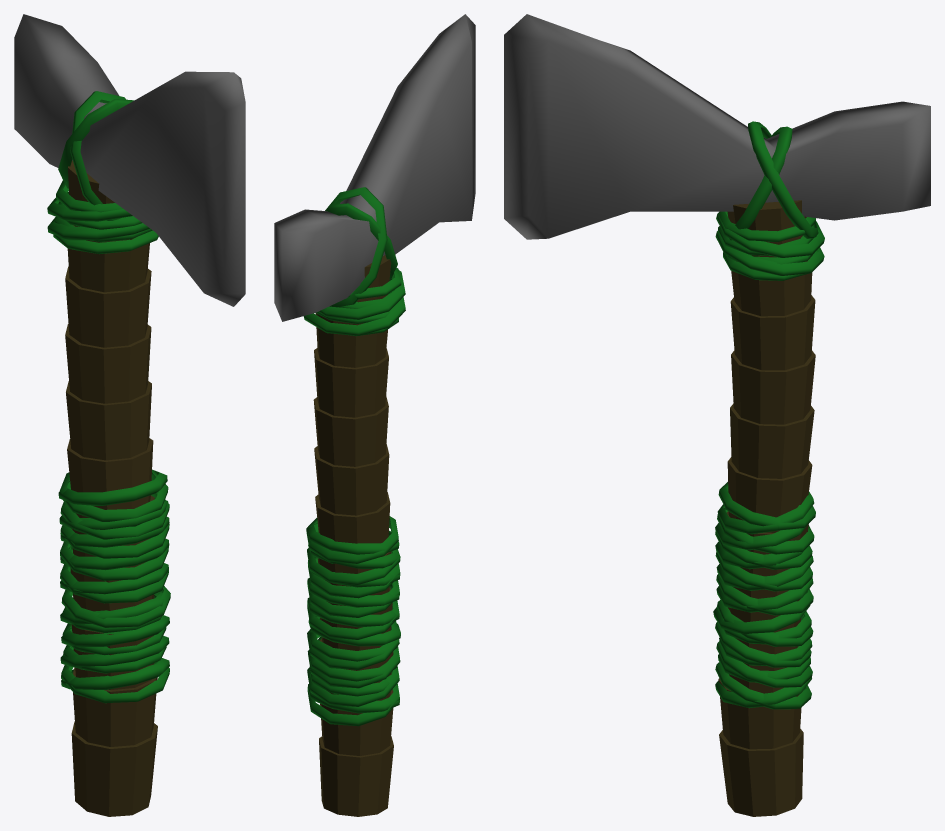
The model's file is Axe.fbx.
3 renders of one model, left to right at view 1: azimuth 30°, elevation 25°; view 2: azimuth 150°, elevation 25°; view 3: azimuth 270°, elevation 25°, orthographic. The views are drawn at different scales.
Visible parts, largest first — view 1: Plane, Cylinder, Cylinder.016, Cylinder.001, Cylinder.002, Cylinder.007, Cylinder.006, Cylinder.008, Cylinder.003, Cylinder.004; view 2: Plane, Cylinder, Cylinder.016, Cylinder.002, Cylinder.007, Cylinder.008, Cylinder.001, Cylinder.003; view 3: Plane, Cylinder, Cylinder.016, Cylinder.002, Cylinder.007, Cylinder.001, Cylinder.008, Cylinder.003.
Boxes of the visible parts, x1=… form: Plane: x1=14, y1=14, x2=245, y2=306; Cylinder: x1=65, y1=160, x2=157, y2=816; Cylinder.016: x1=58, y1=469, x2=170, y2=703; Cylinder.001: x1=70, y1=91, x2=125, y2=220; Cylinder.002: x1=58, y1=99, x2=134, y2=191; Cylinder.007: x1=47, y1=217, x2=149, y2=240; Cylinder.006: x1=53, y1=230, x2=158, y2=254; Cylinder.008: x1=47, y1=191, x2=132, y2=221; Cylinder.003: x1=56, y1=180, x2=122, y2=212; Cylinder.004: x1=58, y1=192, x2=142, y2=229; Plane: x1=274, y1=14, x2=475, y2=321; Cylinder: x1=313, y1=255, x2=393, y2=816; Cylinder.016: x1=306, y1=516, x2=400, y2=726; Cylinder.002: x1=325, y1=187, x2=387, y2=307; Cylinder.007: x1=303, y1=292, x2=405, y2=335; Cylinder.008: x1=318, y1=270, x2=405, y2=319; Cylinder.001: x1=326, y1=203, x2=397, y2=280; Cylinder.003: x1=348, y1=267, x2=401, y2=299; Plane: x1=504, y1=14, x2=930, y2=239; Cylinder: x1=718, y1=200, x2=815, y2=816; Cylinder.016: x1=713, y1=482, x2=815, y2=709; Cylinder.002: x1=748, y1=121, x2=817, y2=238; Cylinder.007: x1=715, y1=231, x2=824, y2=275; Cylinder.001: x1=729, y1=126, x2=792, y2=240; Cylinder.008: x1=716, y1=212, x2=824, y2=257; Cylinder.003: x1=718, y1=211, x2=815, y2=241.
Bounding box in the file's own units: 316 × 2330 × 1144.
